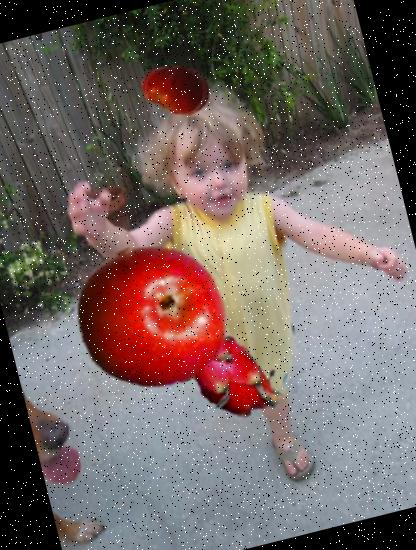Apple: (61, 224, 243, 406)
Pitahaya: (162, 306, 300, 442)
Tomato: (134, 47, 218, 132)
